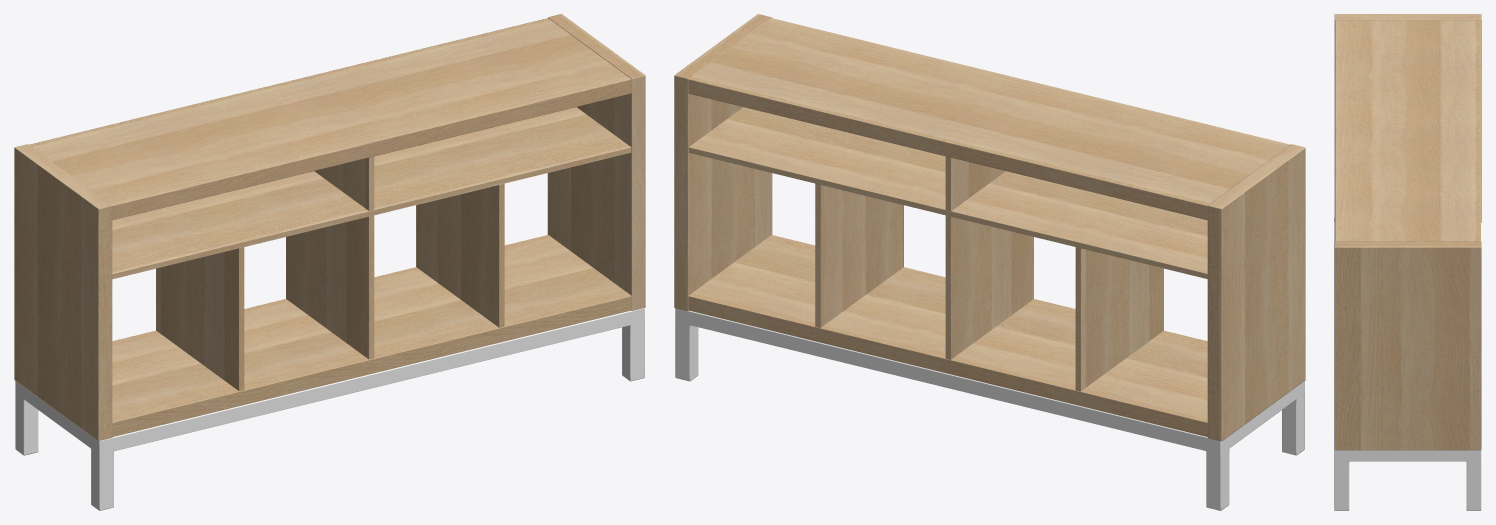
The picture shows the model from 3 angles, left to right: view 1: azimuth 30°, elevation 25°; view 2: azimuth 150°, elevation 25°; view 3: azimuth 270°, elevation 25°; orthographic projection. The views are drawn at different scales.
Visible parts, largest first — view 1: Mesh_0; view 2: Mesh_0; view 3: Mesh_0.
Part boxes in pixels (<box>): Mesh_0: <box>14,14,645,510</box>; Mesh_0: <box>674,14,1305,510</box>; Mesh_0: <box>1334,14,1481,510</box>.
Bounding box in the file's own units: 1.46 × 0.7733 × 0.3906.
2 materials, 1 textured.
